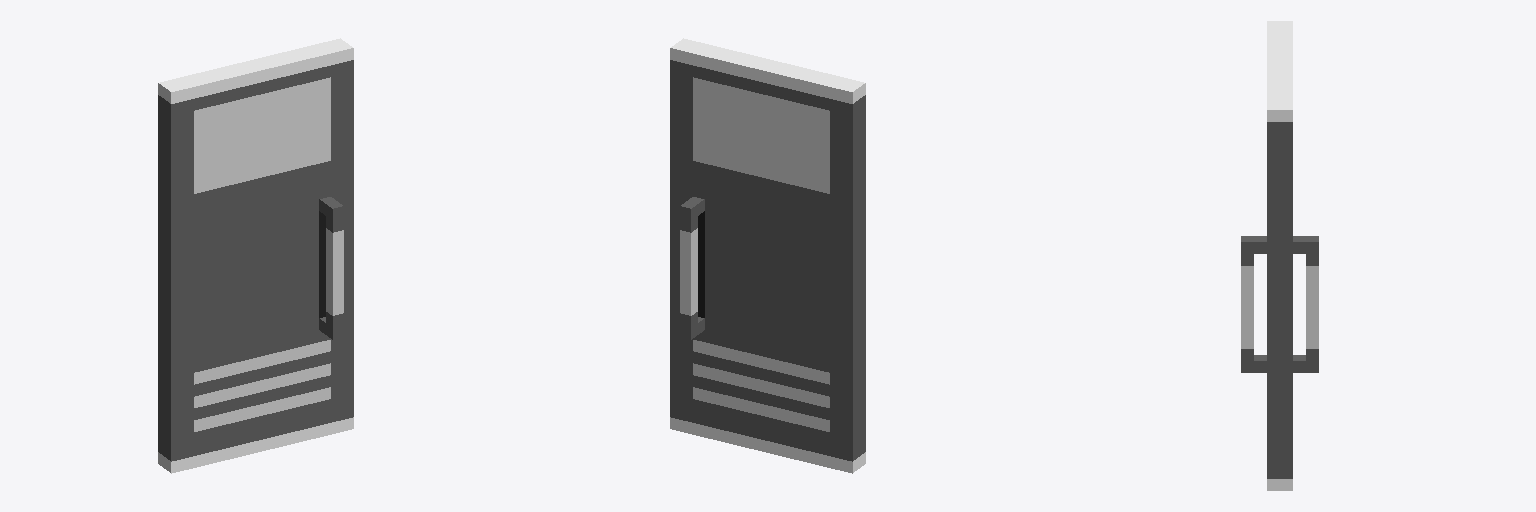
3 views of the same model, side by side, from view 1: azimuth 30°, elevation 25°; view 2: azimuth 150°, elevation 25°; view 3: azimuth 270°, elevation 25° (orthographic).
Parts seen in each view (by area): view 1: cube; view 2: cube; view 3: cube.
Boxes of the visible parts, x1=… form: cube: x1=158, y1=38, x2=353, y2=473; cube: x1=670, y1=38, x2=865, y2=473; cube: x1=1241, y1=21, x2=1318, y2=490.
Size of the model in its own units: 1 by 2 by 0.375.
Materials: 1 (1 with a texture image).